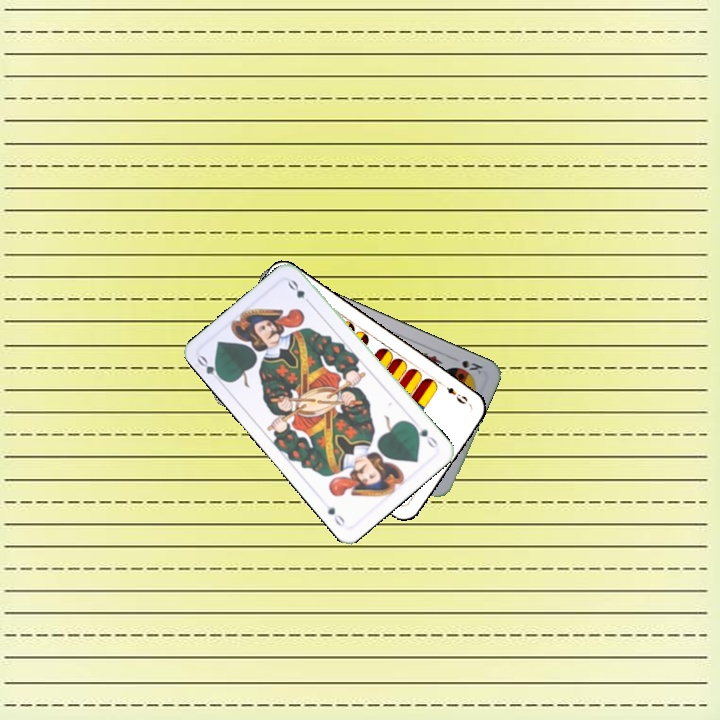E9: (438, 379, 473, 408)
GO: (193, 352, 227, 387), (408, 420, 440, 451)
SK: (458, 356, 485, 377)
